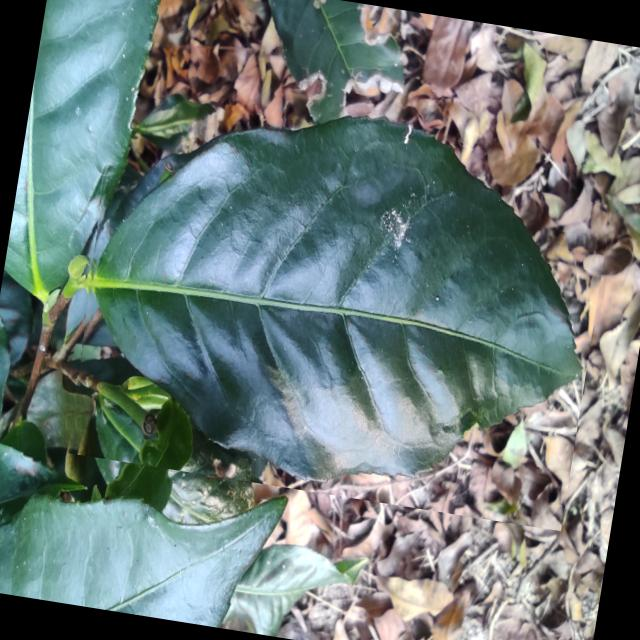Category D(7+ days, Not for Tea): (58, 74, 620, 530)
